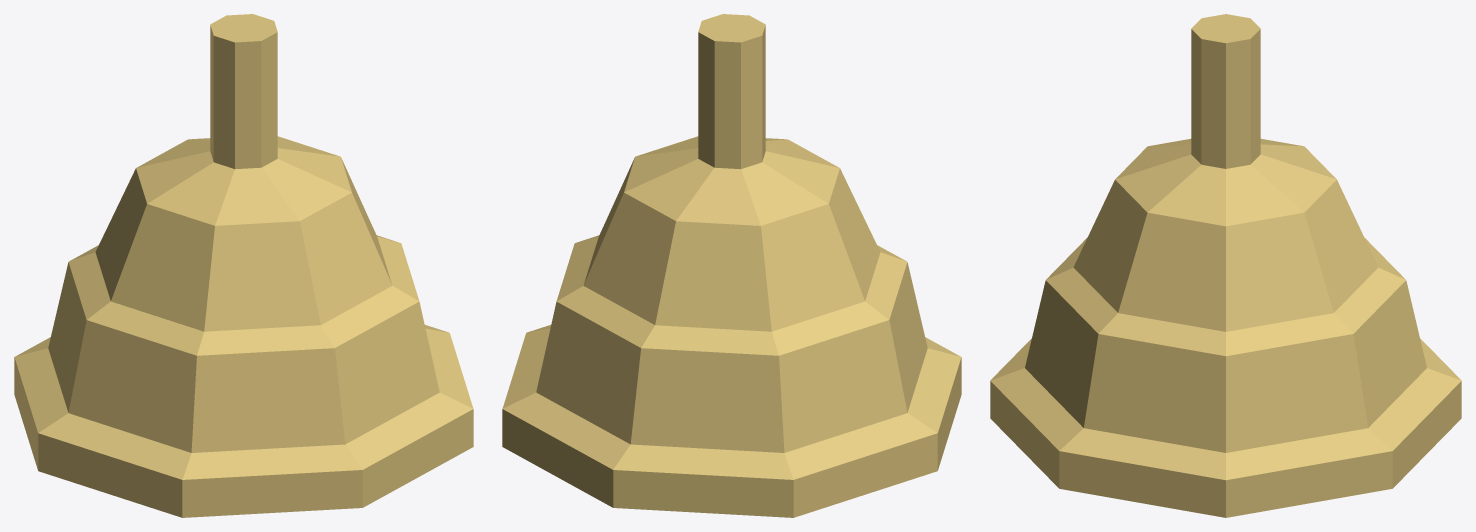
Rendered from prop-fusee-cone.fbx.
3 views of the same model, side by side, from view 1: azimuth 30°, elevation 25°; view 2: azimuth 150°, elevation 25°; view 3: azimuth 270°, elevation 25° (orthographic).
Parts seen in each view (by area): view 1: prop-fusee-cone; view 2: prop-fusee-cone; view 3: prop-fusee-cone.
Part boxes in pixels (<box>): prop-fusee-cone: <box>14,14,473,517</box>; prop-fusee-cone: <box>502,14,961,517</box>; prop-fusee-cone: <box>990,14,1461,517</box>.
Size of the model in its own units: 6.8 by 7 by 6.8.
